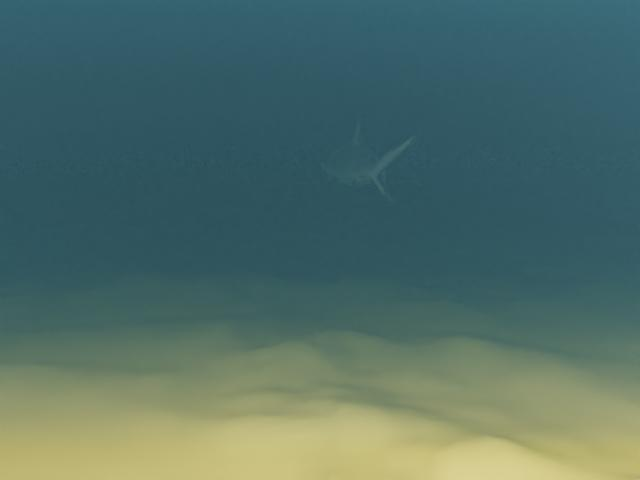Carribean Shark.001: (286, 115, 424, 203)
